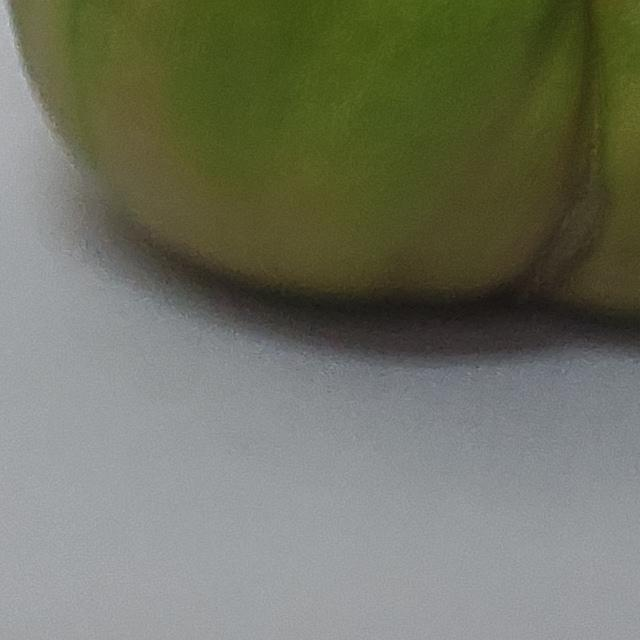tomato: (0, 0, 640, 414)
